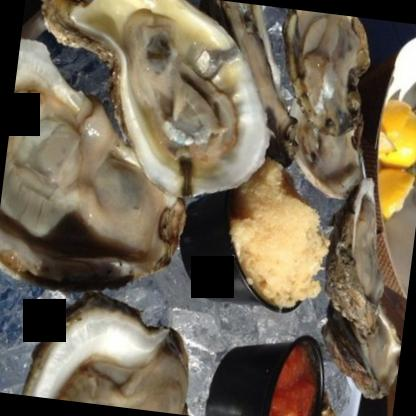oyster: (0, 34, 216, 313), (52, 0, 279, 192), (207, 1, 386, 184), (16, 297, 202, 415)
